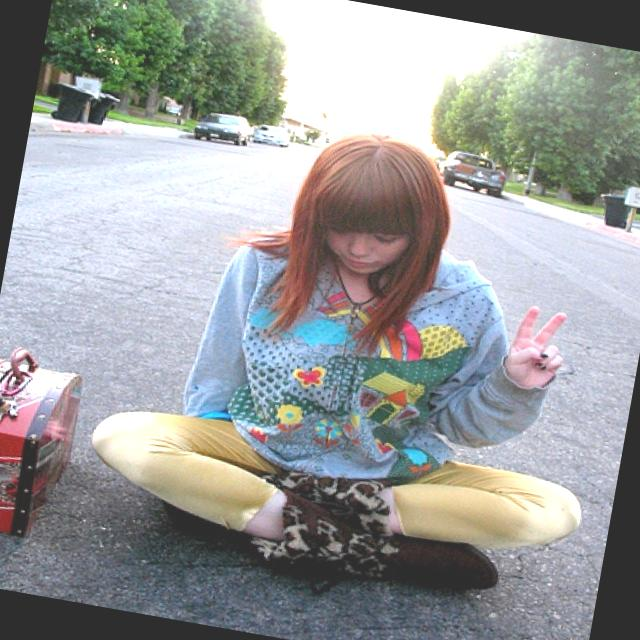Vehicle: (434, 148, 508, 198), (192, 109, 258, 148), (196, 109, 254, 146), (252, 124, 290, 148)
